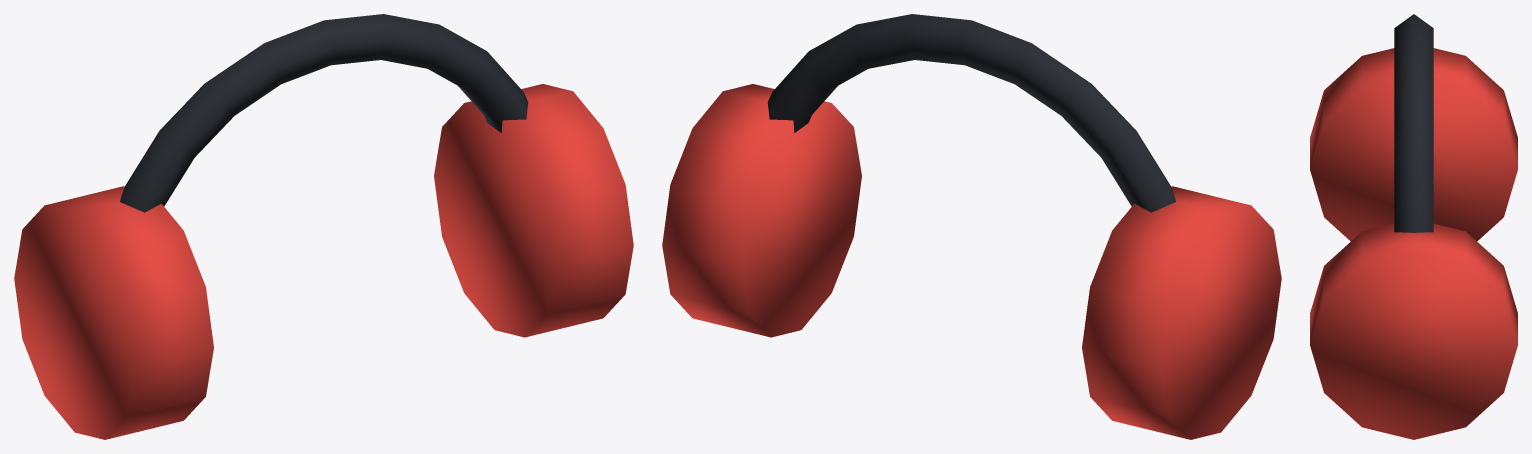
The model's file is Headphones.fbx.
3 views of the same model, side by side, from view 1: azimuth 30°, elevation 25°; view 2: azimuth 150°, elevation 25°; view 3: azimuth 270°, elevation 25° (orthographic). The views are drawn at different scales.
Parts seen in each view (by area): view 1: HeadphonesBody; view 2: HeadphonesBody; view 3: HeadphonesBody.
Boxes of the visible parts, x1,y1,x2,y2 form: HeadphonesBody: (14,14,633,439); HeadphonesBody: (662,14,1281,439); HeadphonesBody: (1310,14,1517,439).
Size of the model in its own units: 0.19 by 0.128 by 0.08.
